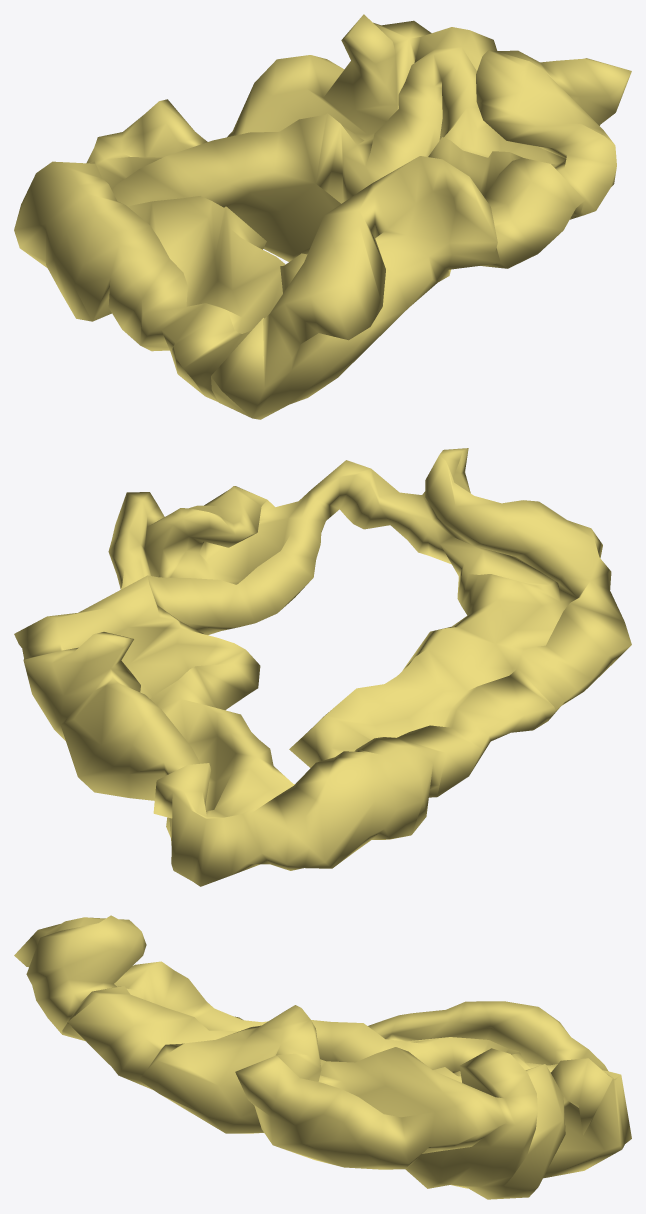
File: orbital-gyri-l.glb
The picture shows the model from 3 angles, top to bottom: view 1: azimuth 30°, elevation 25°; view 2: azimuth 150°, elevation 25°; view 3: azimuth 270°, elevation 25°; orthographic projection. The views are drawn at different scales.
Visible parts, largest first — view 1: Orbital gyri.l; view 2: Orbital gyri.l; view 3: Orbital gyri.l.
Boxes of the visible parts, x1,y1,x2,y2 form: Orbital gyri.l: (14, 14, 631, 419); Orbital gyri.l: (14, 448, 631, 886); Orbital gyri.l: (14, 915, 631, 1199).
Size of the model in its own units: 0.0487 by 0.0272 by 0.0614.
